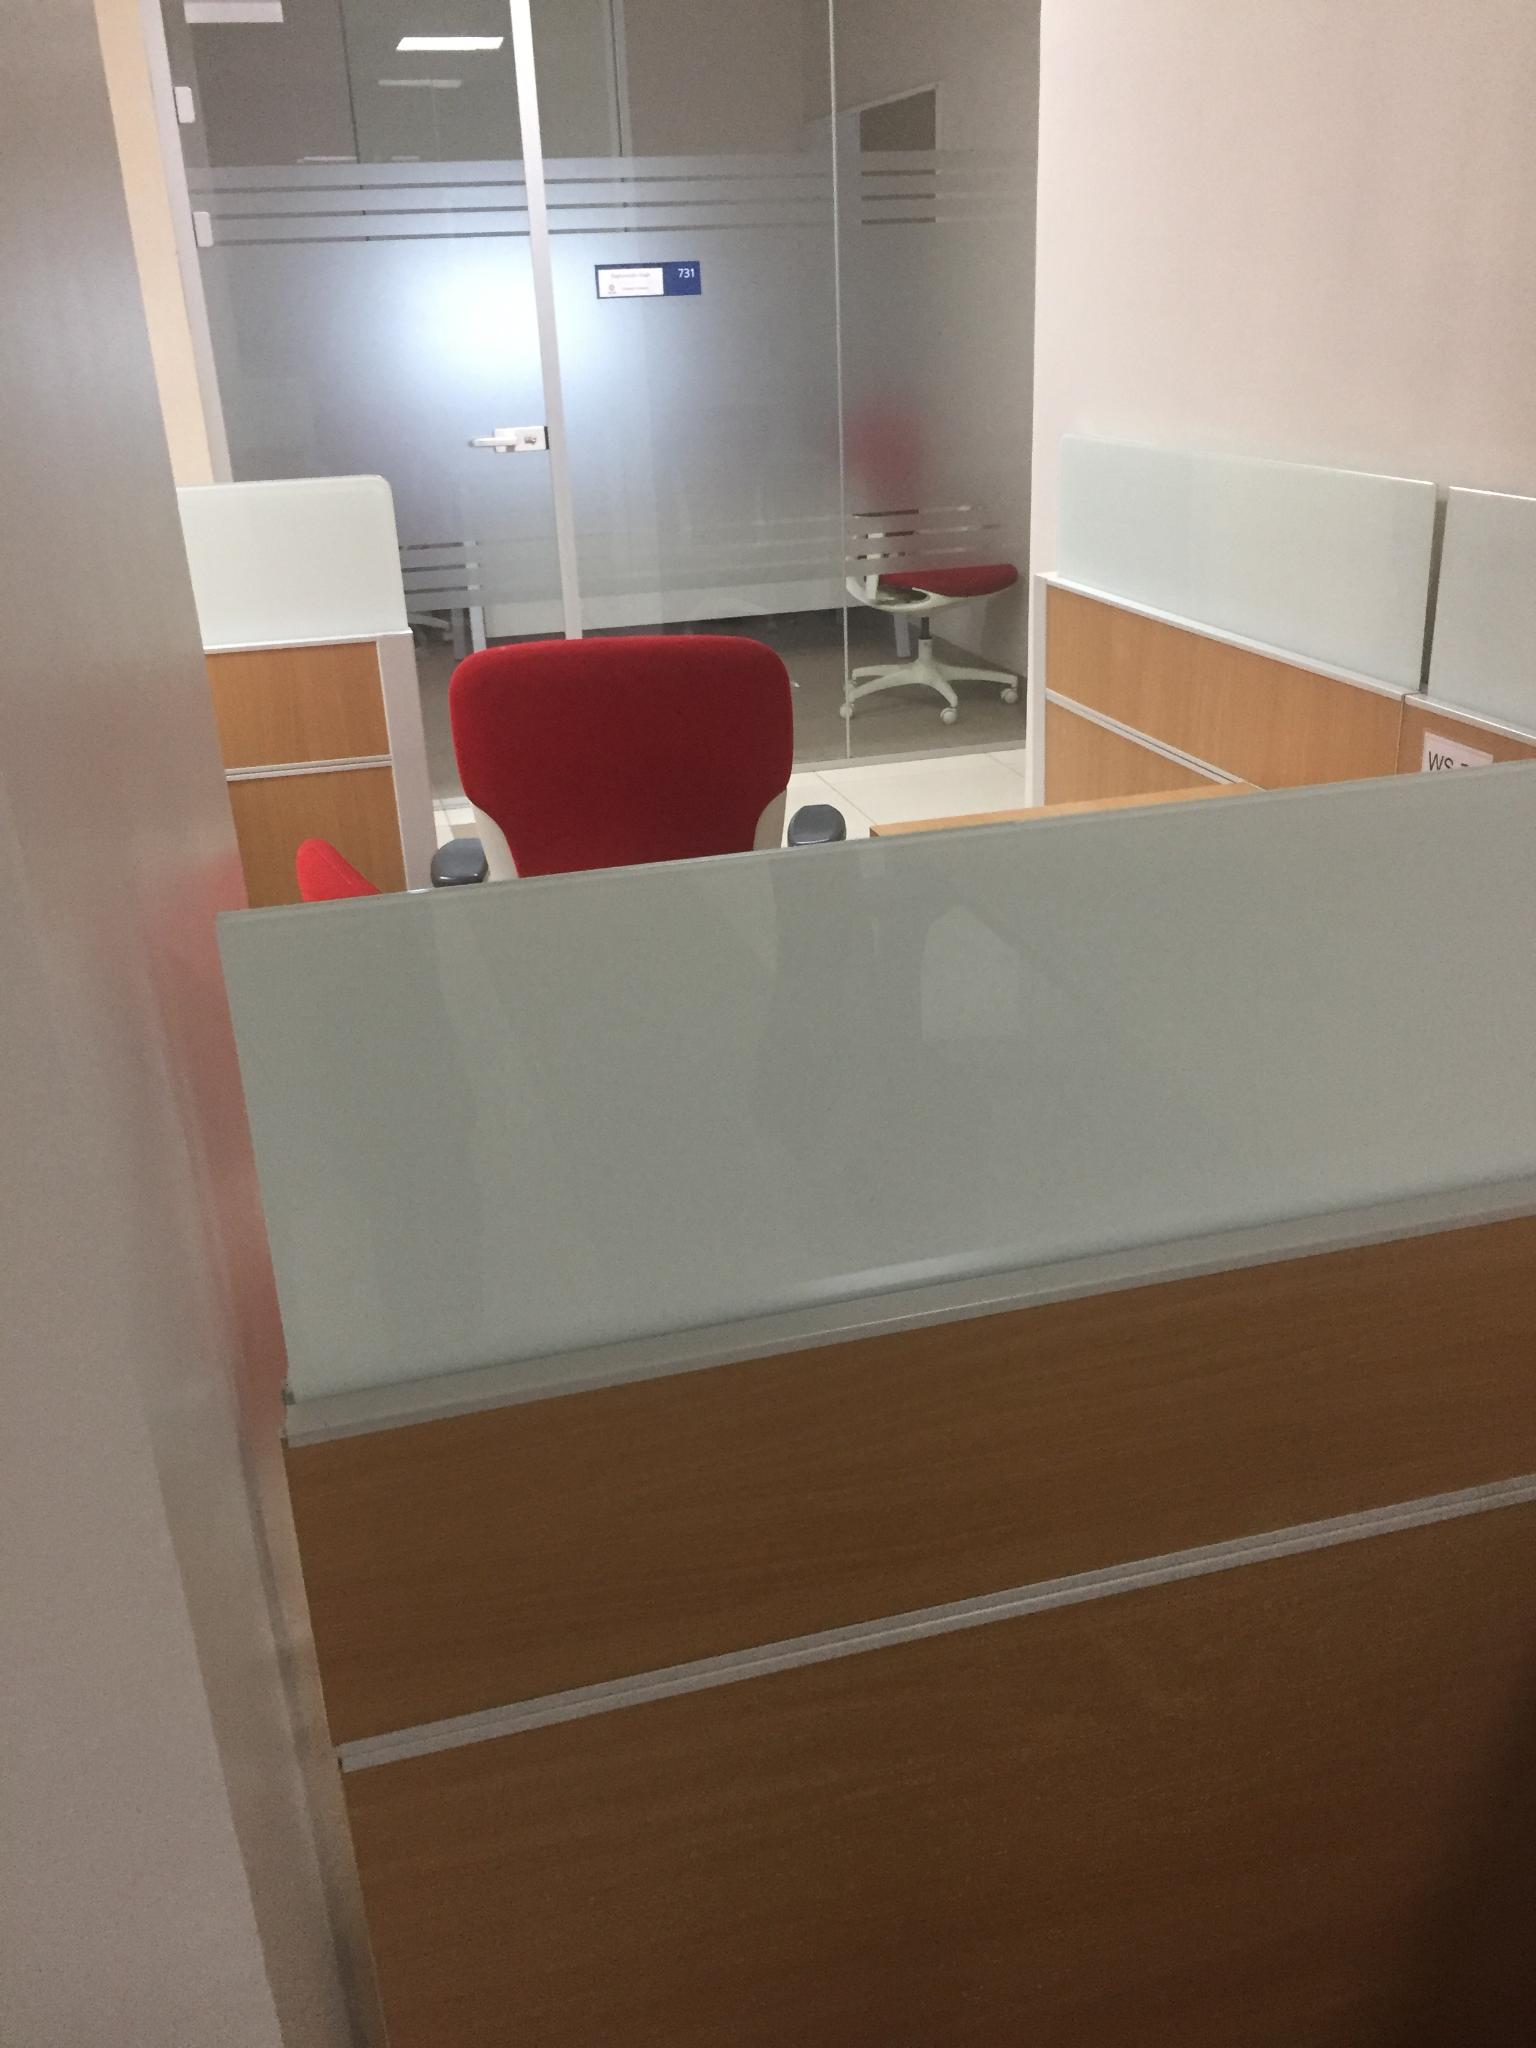chair: (378, 637, 908, 892), (839, 502, 1020, 724)
